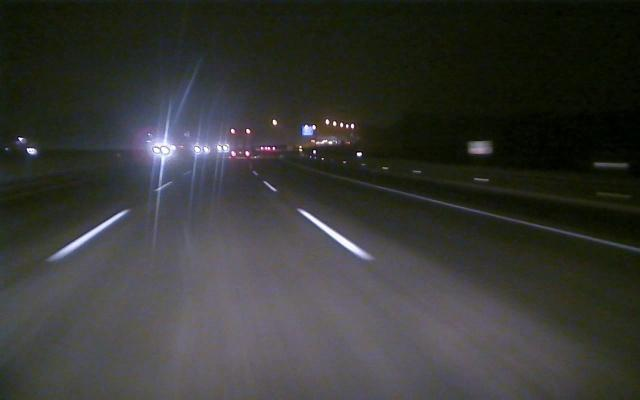lane: (352, 180, 637, 254), (262, 181, 376, 261), (49, 211, 127, 262)
